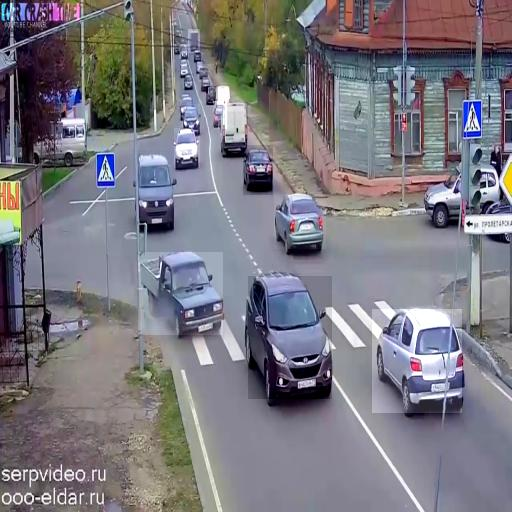小汽车: (248, 276, 332, 399), (372, 309, 462, 413), (138, 252, 223, 335), (426, 164, 502, 230), (134, 150, 174, 230), (274, 194, 326, 249), (243, 145, 273, 195), (222, 102, 248, 157), (174, 128, 200, 168), (182, 104, 200, 134), (213, 101, 227, 129), (188, 29, 200, 53), (198, 64, 211, 82), (206, 86, 218, 105), (184, 73, 194, 90), (179, 44, 189, 59)
